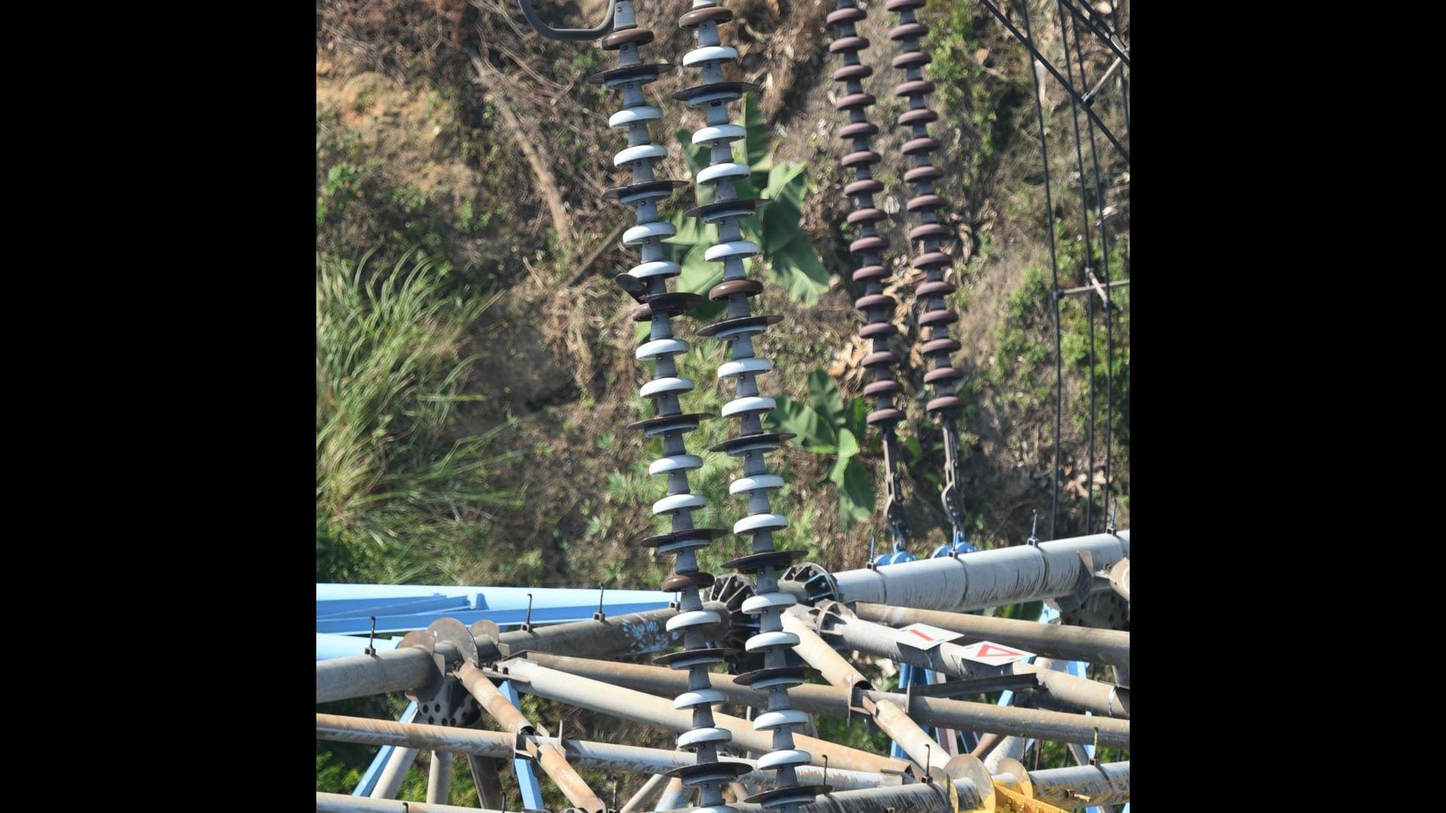insulator: (669, 1, 833, 813), (595, 1, 755, 813), (881, 1, 976, 424), (823, 1, 912, 435)
